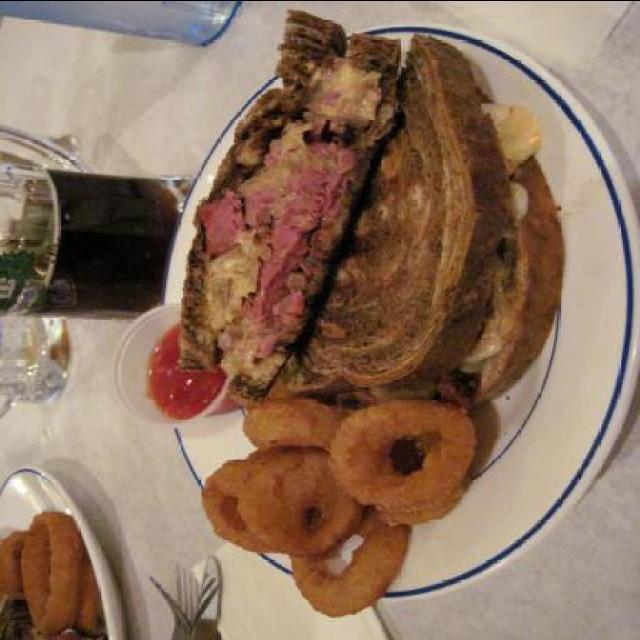Sandwich: (176, 6, 562, 417)
